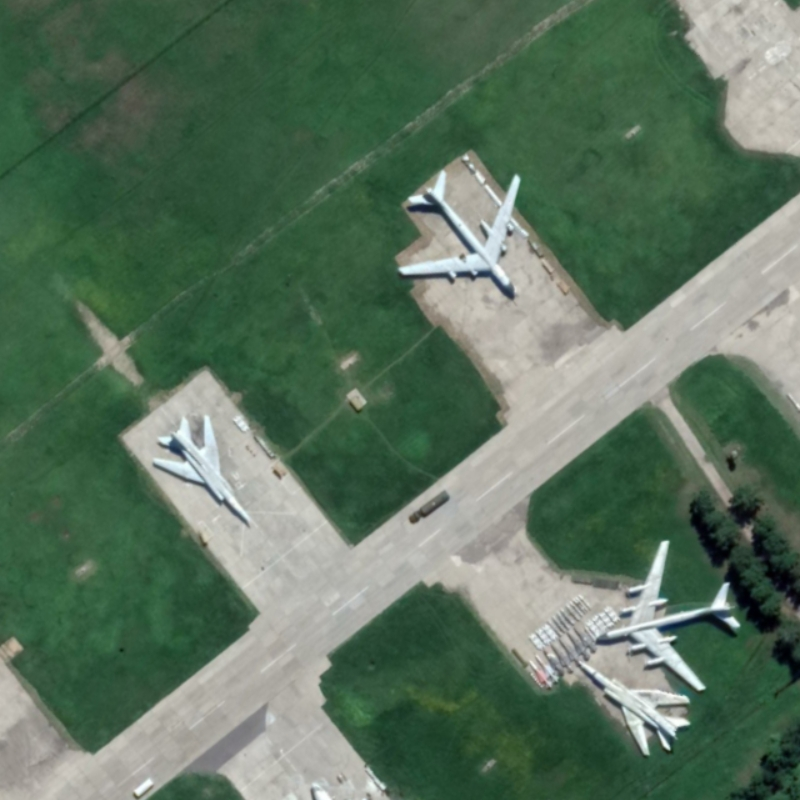A12: (574, 658, 693, 759), (151, 413, 256, 525)
A17: (594, 537, 744, 694), (394, 167, 524, 300)
